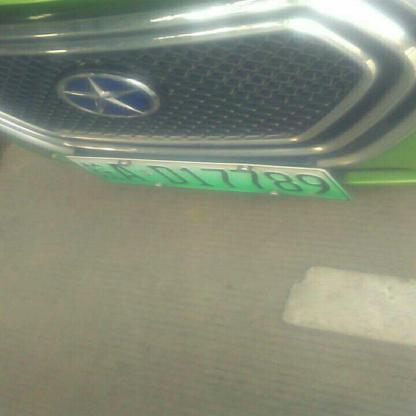lp: (66, 156, 350, 198)
